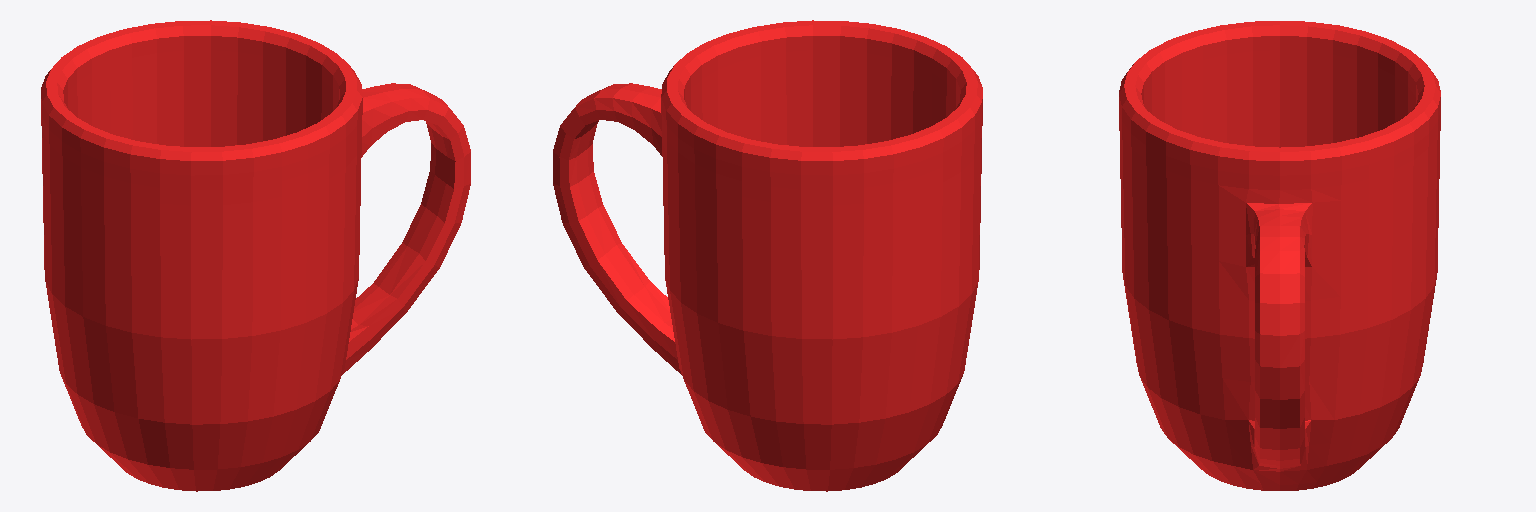
The robot description file, URDF, robot "mug":
<?xml version="0.0" ?>
<robot name="mug">
    <link concave="yes" name="base_link">
        <contact>
            <lateral_friction value="0.8"/>
            <!--rolling_friction value="0.3"/-->
            <!--spinning_friction value="0.3"/-->
        </contact>
        <inertial>
            <origin rpy="0 0 -1.5707963267" xyz="0 0 0.055"/>
            <mass value="1"/>
            <inertia ixx="1" ixy="0" ixz="0" iyy="1" iyz="0" izz="1"/>
        </inertial>
        <visual>
            <origin rpy="1.570796326794896619231 0 0" xyz="0 0 0"/>
            <geometry>
                <mesh filename="mug.obj" scale="0.015 0.015 0.015 "/>
            </geometry>
      <material name="mug">
        <color rgba="1 0.2 0.2 1"/>
        <specular rgb="1 1 1"/>
      </material>
        </visual>
        <collision concave="yes">
            <origin rpy="1.570796326794896619231 0 0" xyz="0 0 0"/>
            <geometry>
                <mesh filename="mug.obj" scale="0.015 0.015 0.015 "/>
            </geometry>
        </collision>
    </link>
</robot>

--- Facts derived from the render (not from the file) ---
Views: 3 orthographic renders of the robot side by side, from view 1: azimuth 30°, elevation 25°; view 2: azimuth 150°, elevation 25°; view 3: azimuth 270°, elevation 25°.
Model mug with 1 links and 0 joints (none), rooted at base_link, posed all joints at 0.
Links seen in each view (by area): view 1: base_link; view 2: base_link; view 3: base_link.
Boxes of the visible links, x1,y1,x2,y2 form: base_link: [41, 20, 470, 491]; base_link: [553, 20, 982, 491]; base_link: [1119, 21, 1440, 490].
Bounding box of the posed robot: 0.1415 × 0.0986 × 0.1244 m (x, y, z).
1 mesh visuals loaded from 1 distinct referenced files (1 OBJ).